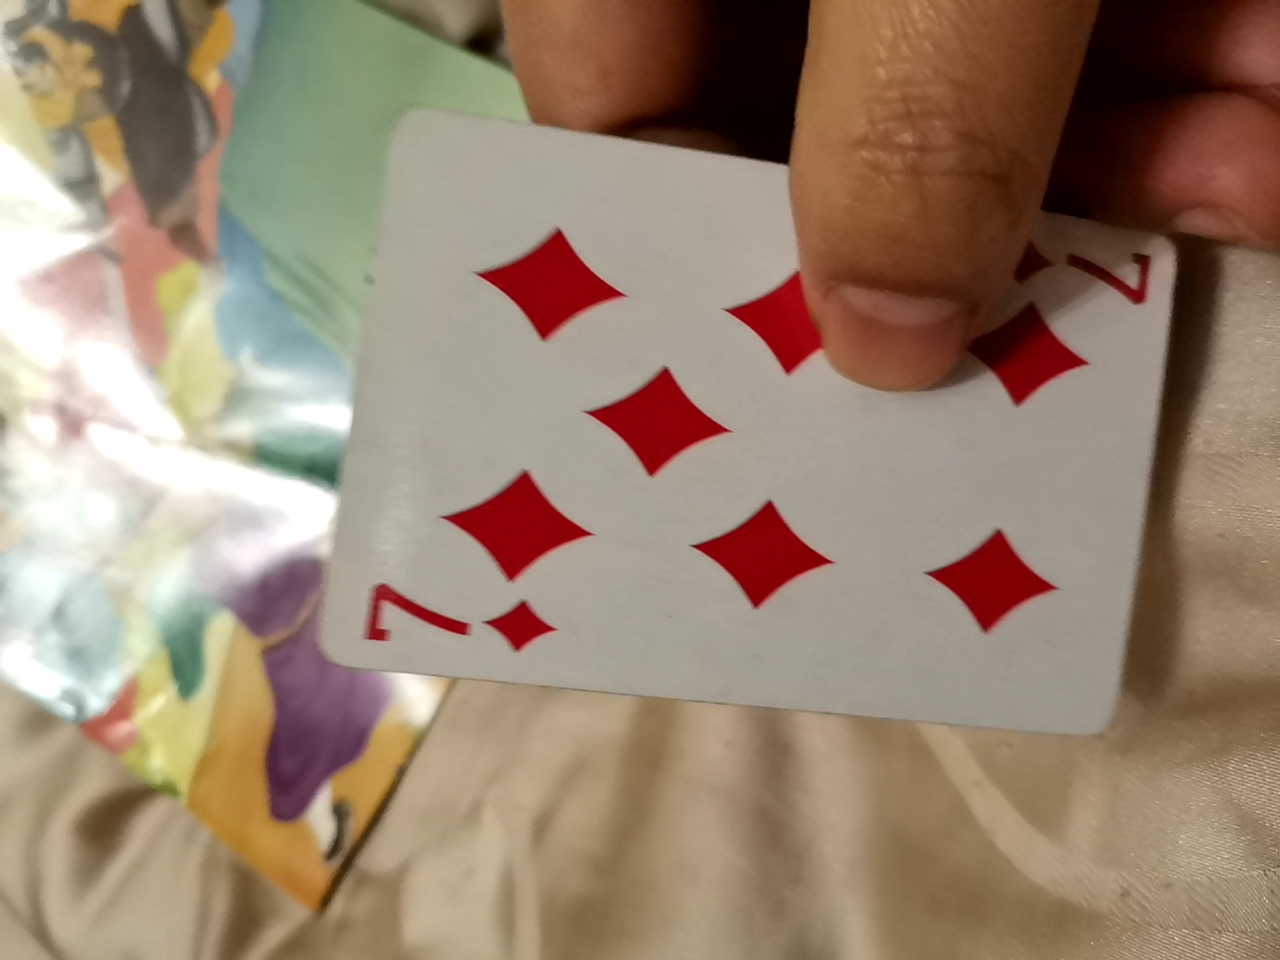fk 7: (362, 140, 1192, 749)
